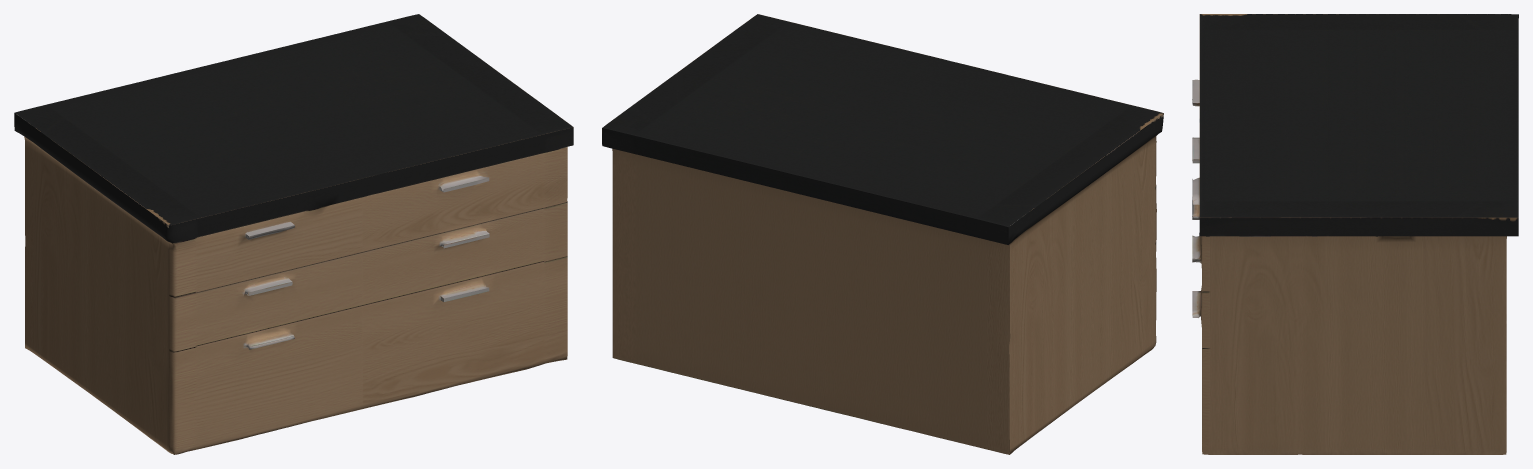
The model's file is 05-island.glb.
3 views of the same model, side by side, from view 1: azimuth 30°, elevation 25°; view 2: azimuth 150°, elevation 25°; view 3: azimuth 270°, elevation 25° (orthographic). The views are drawn at different scales.
Parts seen in each view (by area): view 1: Mesh_0; view 2: Mesh_0; view 3: Mesh_0.
Boxes of the visible parts, x1=… form: Mesh_0: x1=14, y1=14, x2=573, y2=454; Mesh_0: x1=602, y1=14, x2=1163, y2=454; Mesh_0: x1=1192, y1=14, x2=1518, y2=454.
Size of the model in its own units: 1.9 by 1.31 by 1.29.
1 material, 1 textured.
